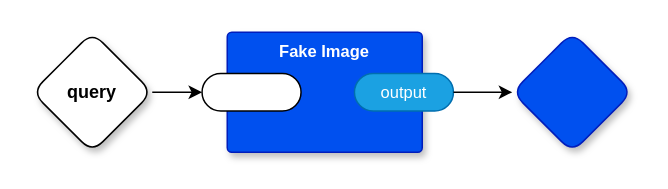
The diagram is 668 pixels wide and 189 high, and some of its shapes have lost their labels. The shapes that lost their labels are listed below. From the top down, each one's centre as x and y in pixels, then its label:
At [251,91]: "input".
At [573,94]: "response".
